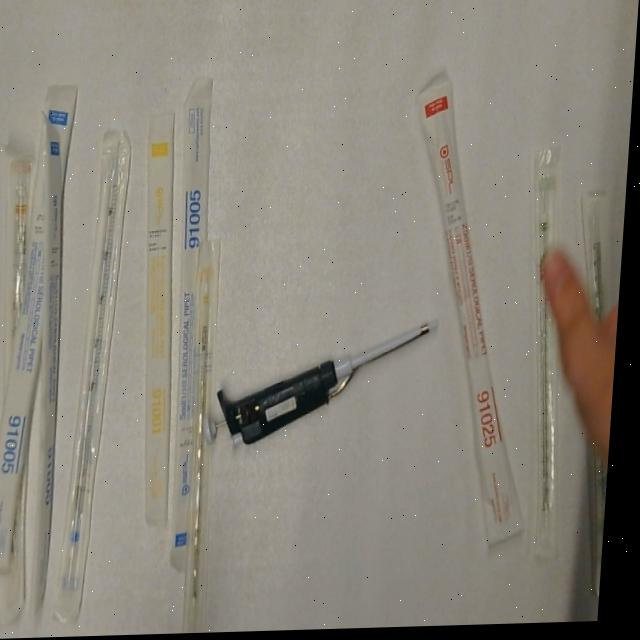Serelogical Pipet 1 mL: (126, 109, 199, 533), (179, 231, 232, 635)
Serelogical Pipet 10 mL: (0, 140, 44, 395)
Serelogical Pipet 2 mL: (510, 134, 593, 570)
Serelogical Pipet 25 mL: (392, 75, 558, 558)
Serelogical Pipet 5 mL: (0, 82, 84, 578), (60, 125, 140, 625), (159, 71, 238, 577), (17, 111, 81, 620)
Single Channel Pipettor: (205, 314, 449, 454)
